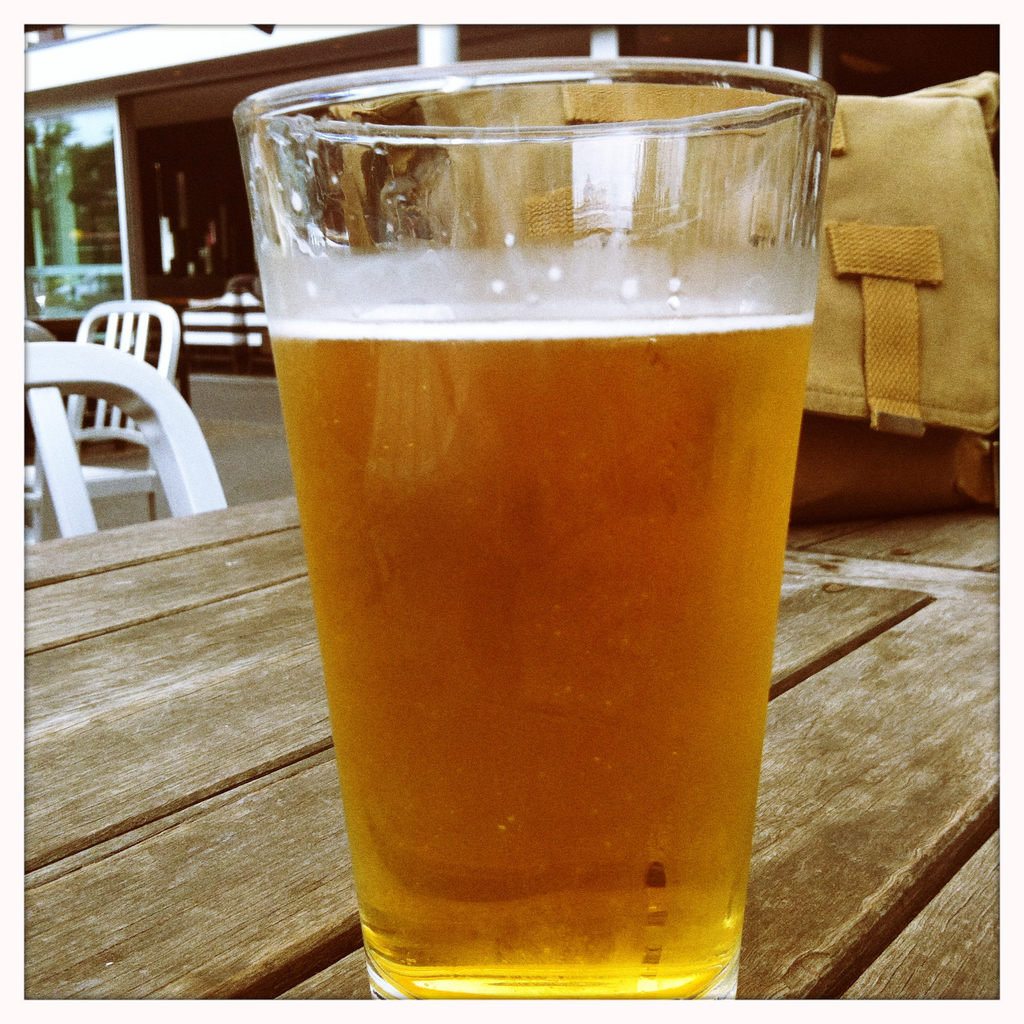Beer: (264, 240, 808, 1023)
